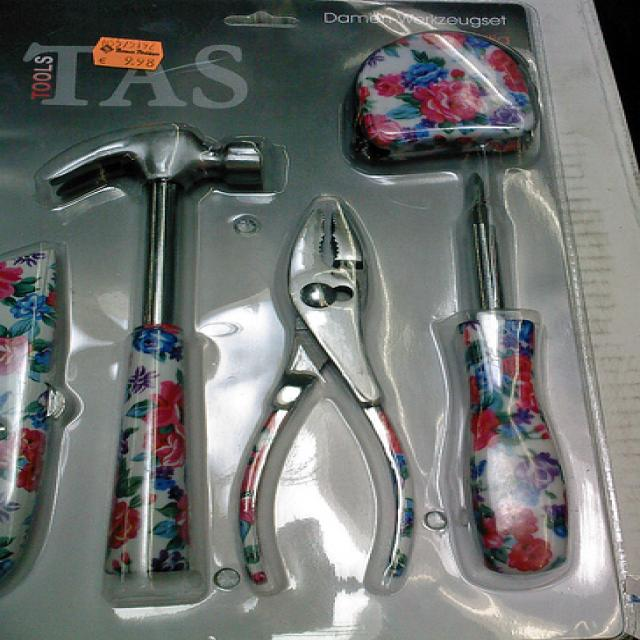hammer: (21, 122, 281, 488)
screw driver: (429, 152, 579, 582)
